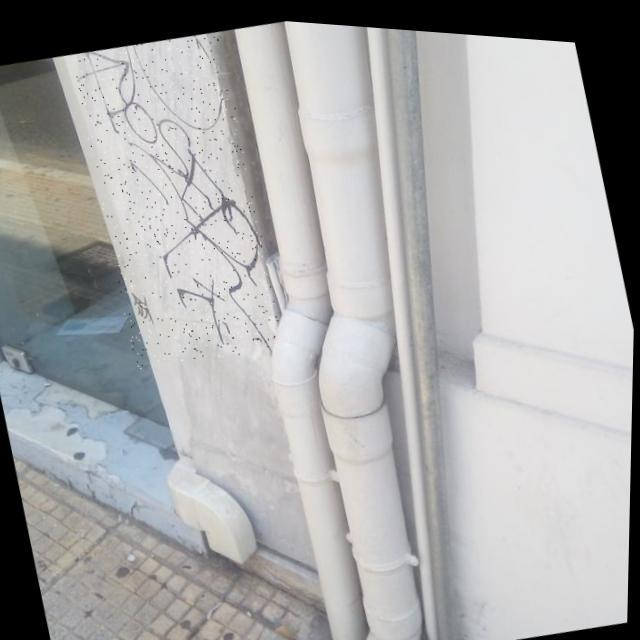-: (65, 19, 291, 376)
